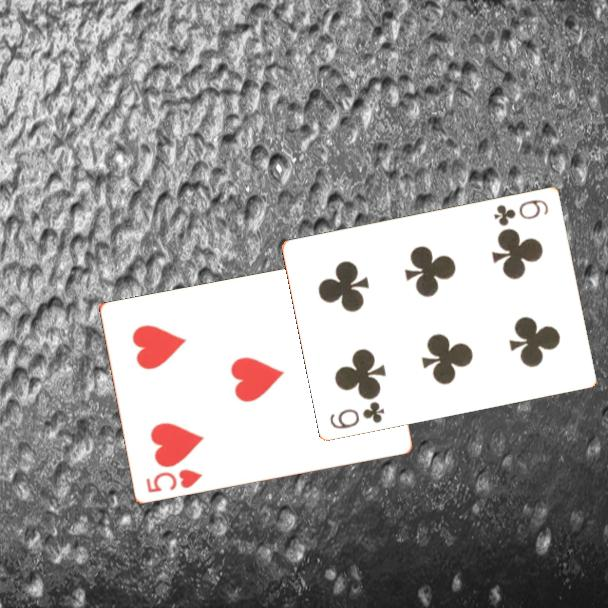c06: (491, 196, 552, 229), (327, 398, 388, 431)
h05: (142, 466, 205, 496)
